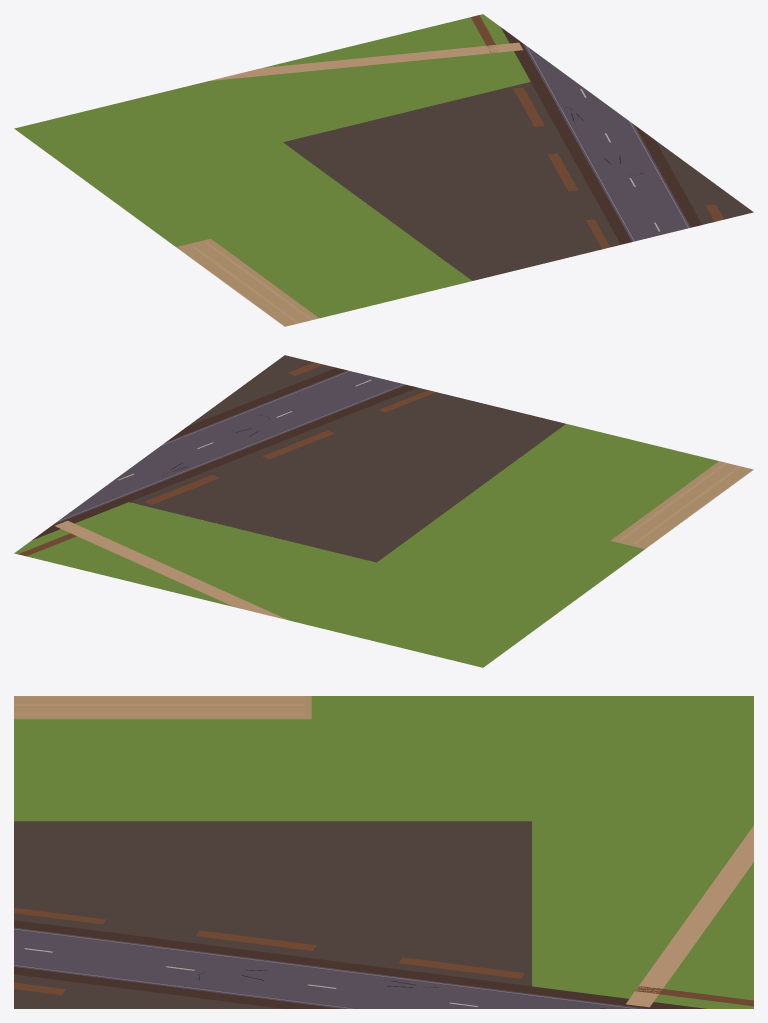
File: crossing-1-2.glb
3 renders of one model, top to bottom at view 1: azimuth 30°, elevation 25°; view 2: azimuth 150°, elevation 25°; view 3: azimuth 270°, elevation 25°, orthographic. The views are drawn at different scales.
Visible parts, largest first — view 1: crossing-1-2; view 2: crossing-1-2; view 3: crossing-1-2.
Part boxes in pixels (x1=…): crossing-1-2: x1=14, y1=14, x2=753, y2=326; crossing-1-2: x1=14, y1=355, x2=753, y2=667; crossing-1-2: x1=14, y1=696, x2=753, y2=1008.
Bounding box in the file's own units: 100 × 0.0145 × 100.
